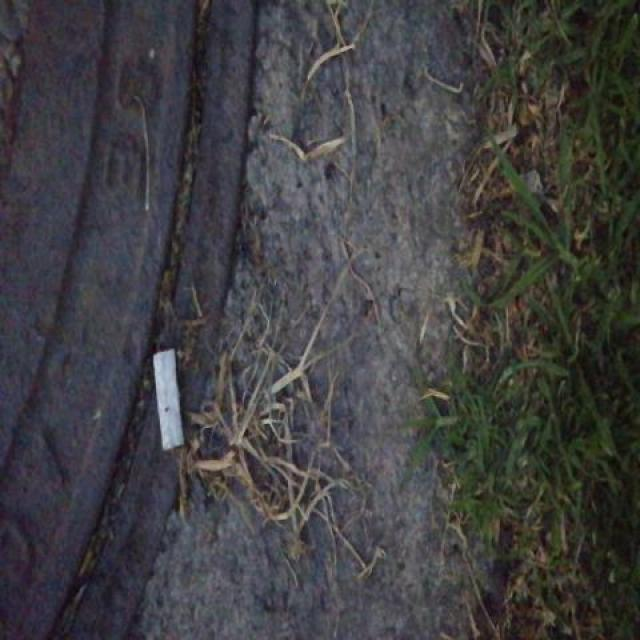non-organic waste: (147, 342, 188, 455)
